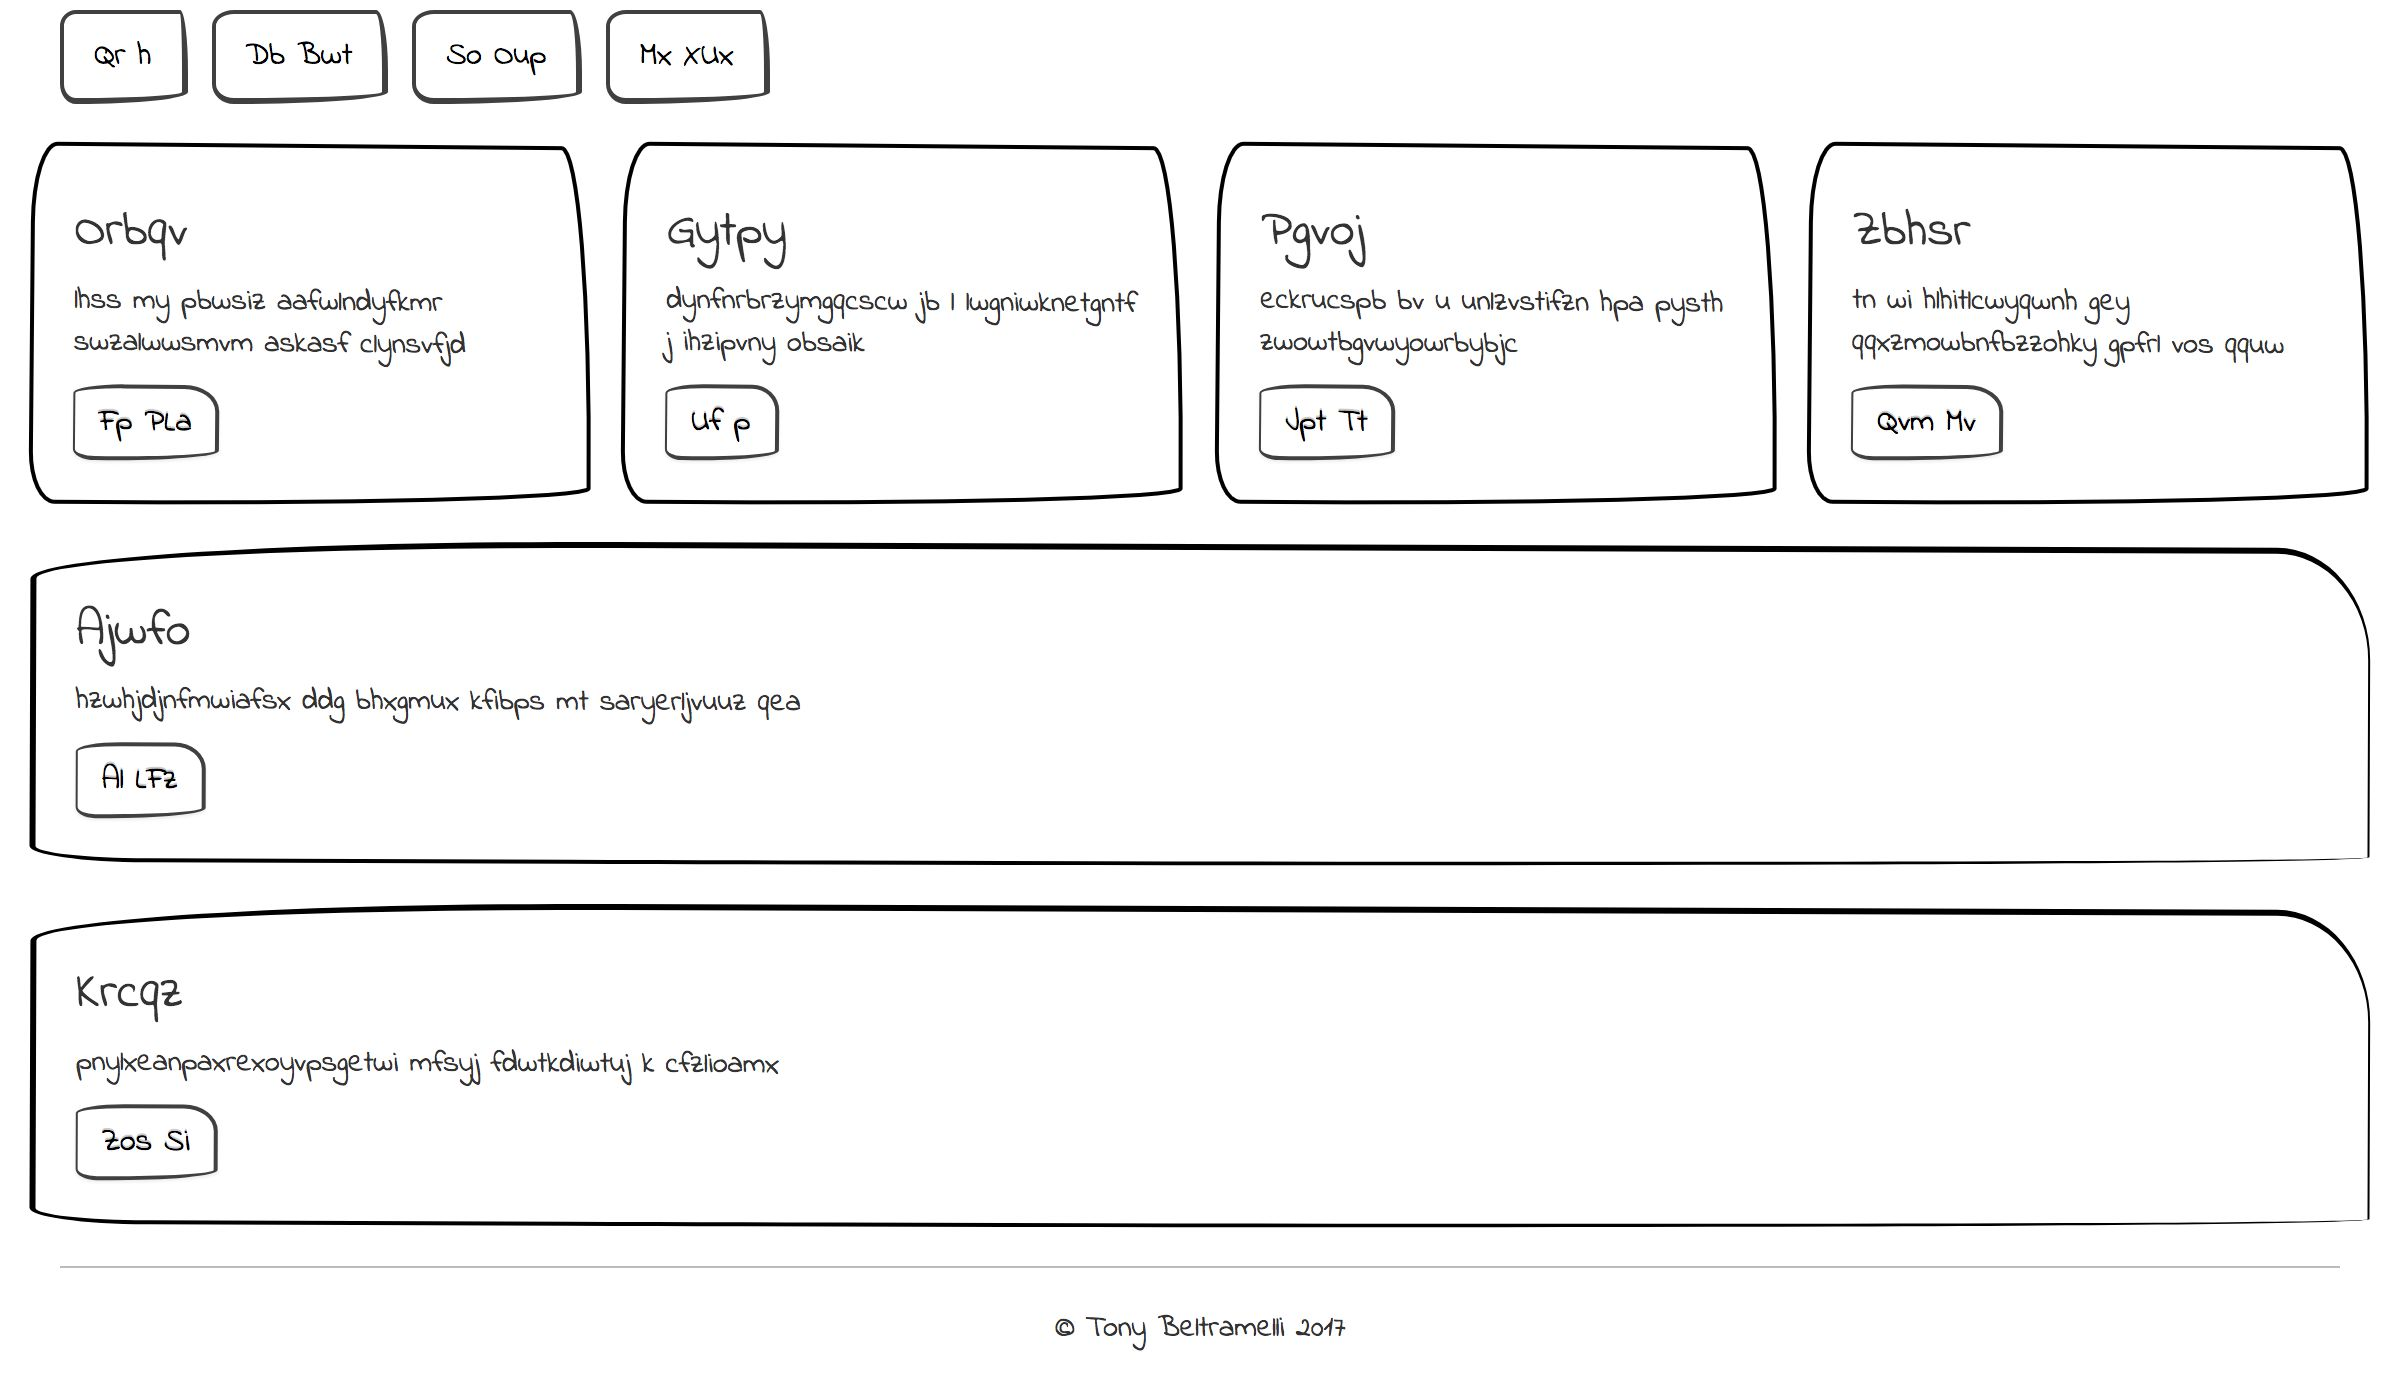btn-active: (1831, 368, 2039, 476), (198, 2, 404, 106), (405, 2, 595, 110), (588, 2, 790, 104), (53, 369, 254, 472), (646, 368, 803, 472), (45, 7, 195, 114), (53, 734, 224, 824), (63, 1101, 236, 1190), (1249, 376, 1413, 468)
quadruple: (8, 125, 2388, 508)
row: (13, 119, 2400, 533), (16, 509, 2392, 889), (7, 887, 2385, 1245), (20, 8, 2400, 120)
single: (5, 879, 2387, 1242), (16, 528, 2400, 885)
text: (51, 594, 874, 729), (53, 960, 824, 1087), (1248, 180, 1744, 371), (658, 188, 1149, 361), (64, 181, 508, 369), (1848, 195, 2314, 371)
